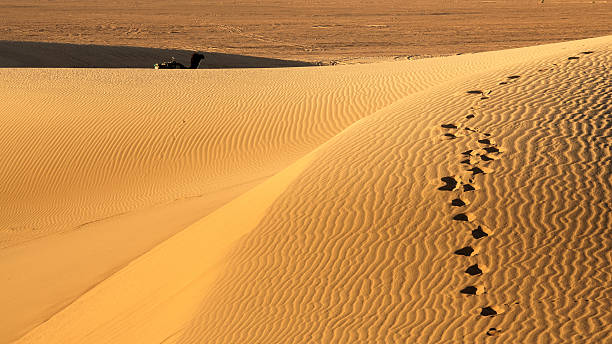human_footprint: (439, 122, 501, 206), (451, 121, 504, 206), (457, 126, 504, 190), (461, 139, 503, 160), (438, 175, 476, 191), (479, 302, 517, 316), (441, 123, 464, 139), (438, 176, 460, 190), (472, 225, 492, 239), (466, 89, 491, 99), (459, 284, 484, 294), (465, 263, 485, 275), (454, 246, 477, 256), (468, 166, 493, 174), (453, 212, 475, 221), (499, 75, 520, 84), (460, 156, 481, 165), (465, 106, 479, 119), (480, 306, 499, 315), (486, 327, 502, 336), (451, 198, 468, 206), (461, 183, 477, 191), (480, 154, 498, 161), (483, 146, 503, 152), (480, 90, 491, 99), (443, 133, 460, 138), (466, 89, 483, 94), (441, 123, 457, 128), (478, 138, 491, 144), (463, 127, 478, 132), (507, 75, 520, 79), (465, 113, 474, 118), (580, 51, 593, 54), (568, 56, 578, 59)
